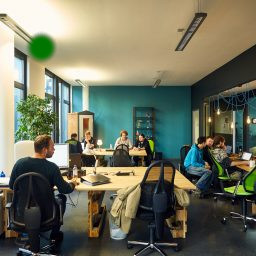focus: (26, 32, 55, 62)
